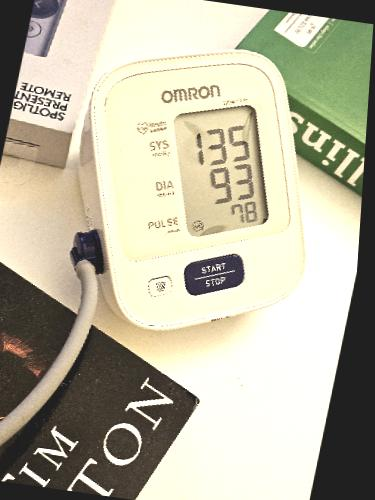bpm: (170, 103, 271, 238)
